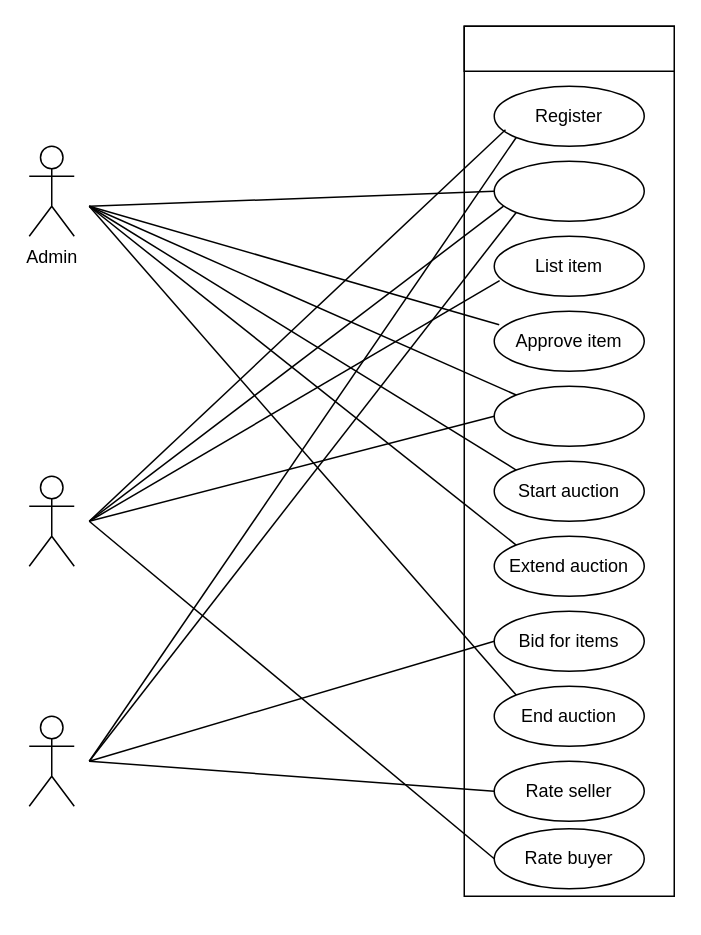
This 701x935 diagram has some shape labels left out. The centre of each missing label's shape, as x and y in pixels:
Bidder: (51,760)
Login: (568,190)
Online Auction System: (568,48)
Remove item: (568,415)
Seller: (51,520)
